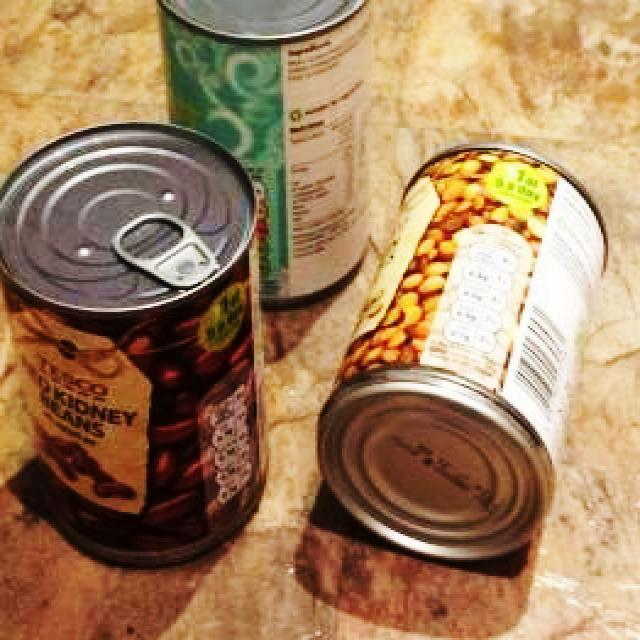Lata: (0, 125, 270, 564), (315, 147, 603, 556), (159, 0, 372, 307)
